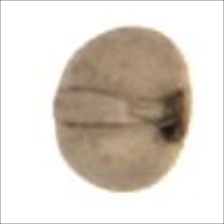L5: (50, 85, 157, 133), (155, 82, 195, 149)
L6: (49, 23, 195, 196)
